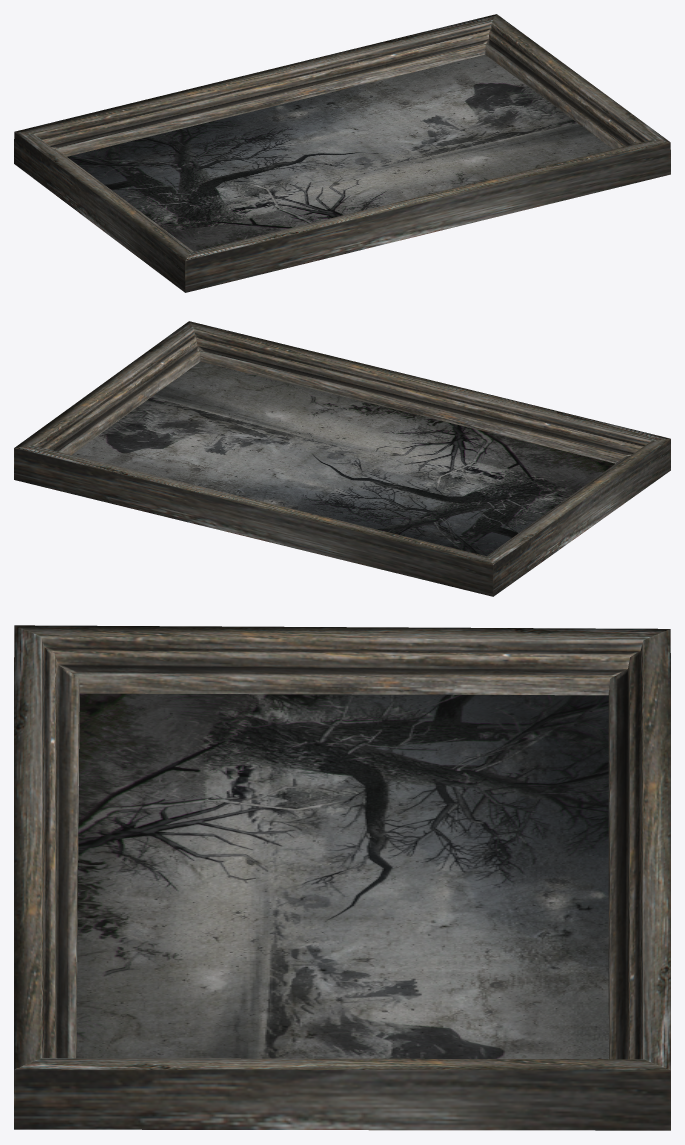
Rendered from Painting_03.fbx.
3 renders of one model, top to bottom at view 1: azimuth 30°, elevation 25°; view 2: azimuth 150°, elevation 25°; view 3: azimuth 270°, elevation 25°, orthographic. The views are drawn at different scales.
Visible parts, largest first — view 1: Painting_03; view 2: Painting_03; view 3: Painting_03.
Boxes of the visible parts, x1=… form: Painting_03: x1=14, y1=14, x2=670, y2=292; Painting_03: x1=14, y1=321, x2=670, y2=596; Painting_03: x1=14, y1=625, x2=670, y2=1130.
Bounding box in the file's own units: 1.83 × 0.1152 × 1.14.
1 material, 1 textured.
